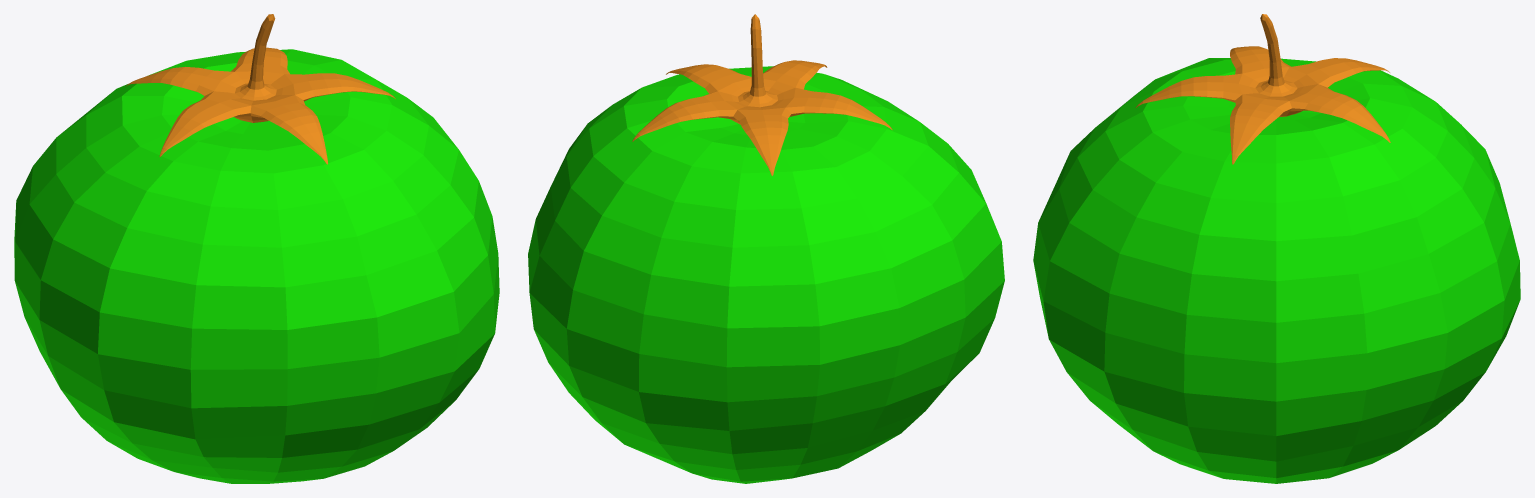
File: Tomato.fbx
3 renders of one model, left to right at view 1: azimuth 30°, elevation 25°; view 2: azimuth 150°, elevation 25°; view 3: azimuth 270°, elevation 25°, orthographic. The views are drawn at different scales.
Parts seen in each view (by area): view 1: Tomato, Stem; view 2: Tomato, Stem; view 3: Tomato, Stem.
Boxes of the visible parts, box(x1,y1,x2,y2) form: Tomato: box(14, 49, 499, 483); Stem: box(125, 14, 395, 164); Tomato: box(528, 66, 1004, 483); Stem: box(632, 14, 892, 175); Tomato: box(1033, 58, 1520, 483); Stem: box(1135, 14, 1390, 164).
Size of the model in its own units: 110 by 111 by 109.
